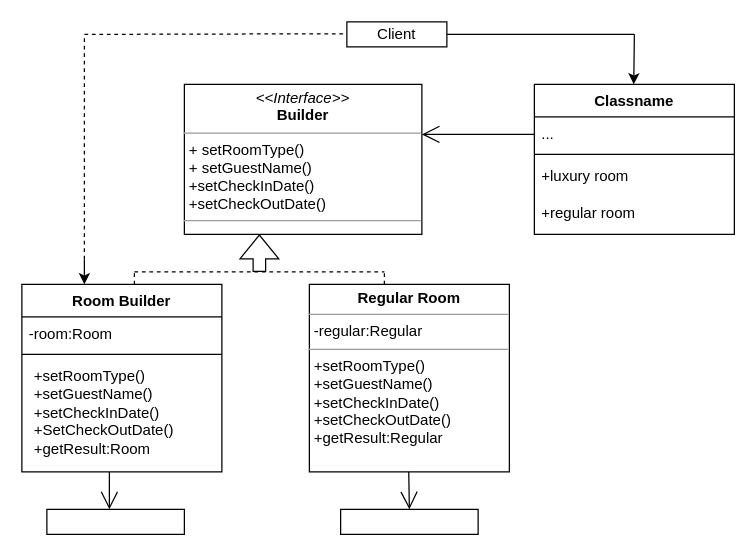
This 756x556 diagram has some shape labels left out. The shapes that lost their labels are listed below. From the top down, each one's centre as x and y in pixels, then its label:
point (115, 521): Room
point (408, 521): Regular
